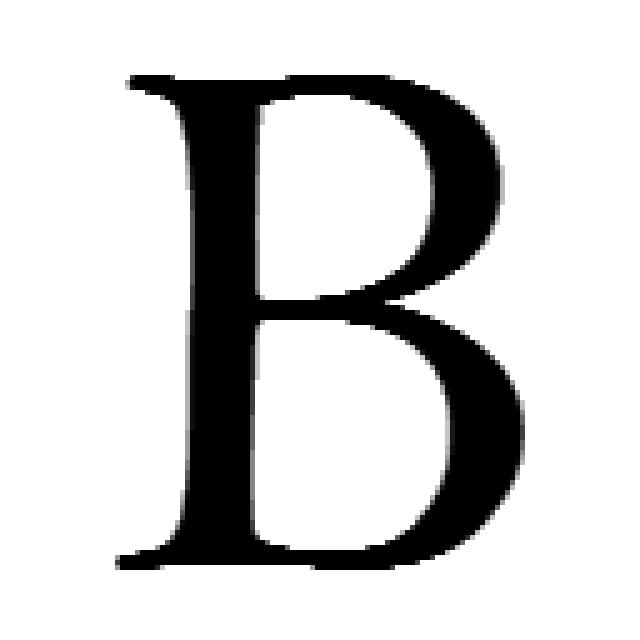B: (115, 75, 525, 575)
